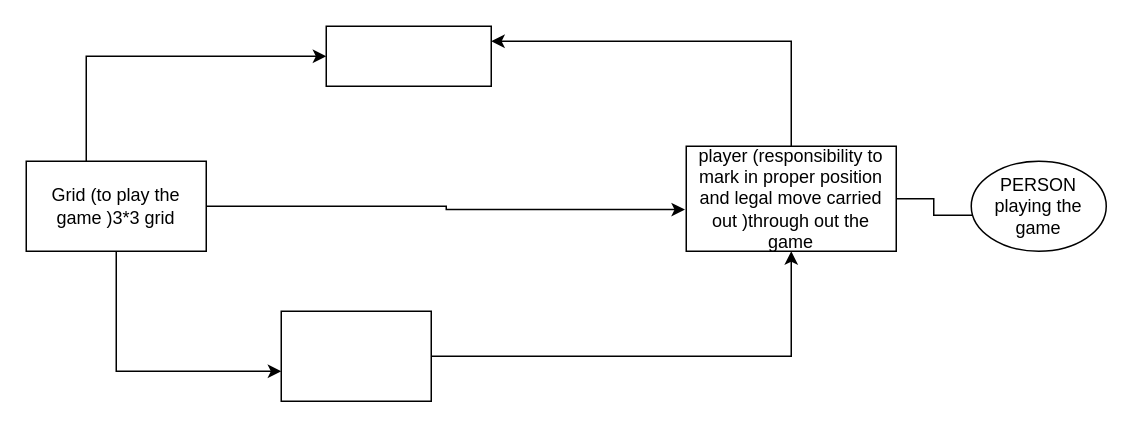
This 1133x428 diagram has some shape labels left out. Each missing label, with the centre of its shape:
symbol X/O (payer can chose any one symbol): (x=355, y=355)
TIC TAC TOE: (x=408, y=55)
